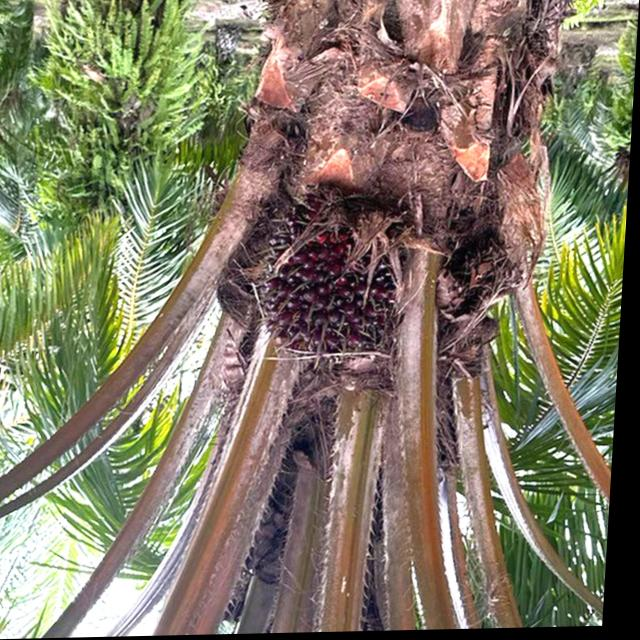ripe: (262, 210, 414, 373)
